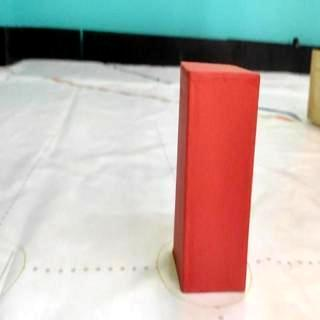redbox: (173, 61, 260, 291)
